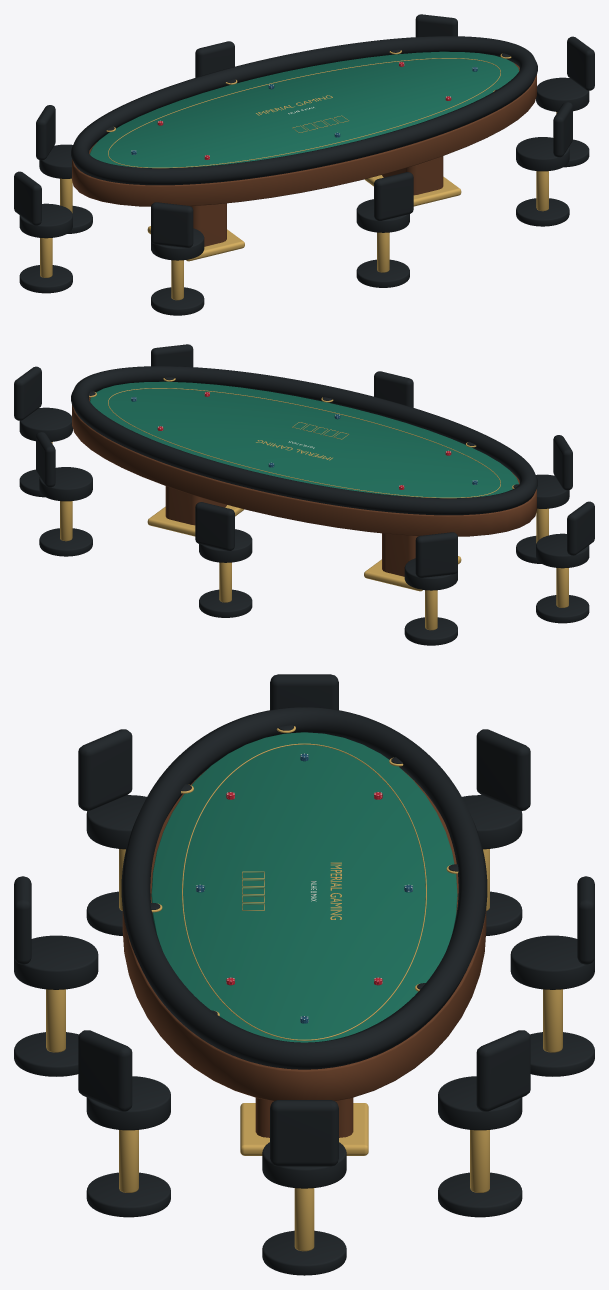
File: NLHE_8.glb
3 renders of one model, top to bottom at view 1: azimuth 30°, elevation 25°; view 2: azimuth 150°, elevation 25°; view 3: azimuth 270°, elevation 25°, orthographic. The views are drawn at different scales.
Parts seen in each view (by area): view 1: Emerald playing surface, Padded perimeter rail, Walnut table cabinet, Seat 07 backrest, Seat 00 backrest, Seat 02 cushion, Seat 01 cushion, Seat 06 cushion, Seat 02 backrest, Seat 06 backrest, Pedestal, Seat 01 foot (+20 smaller); view 2: Emerald playing surface, Padded perimeter rail, Walnut table cabinet, Seat 05 backrest, Seat 04 backrest, Seat 02 cushion, Seat 03 cushion, Seat 06 cushion, Seat 02 backrest, Seat 06 backrest, Pedestal, Seat 03 foot (+20 smaller); view 3: Emerald playing surface, Padded perimeter rail, Walnut table cabinet, Seat 02 backrest, Seat 05 backrest, Seat 07 backrest, Seat 01 backrest, Seat 03 backrest, Seat 00 cushion, Seat 04 cushion, Seat 02 foot, Seat 01 foot (+21 smaller).
Boxes of the visible parts, bbox=[...] form: Emerald playing surface: bbox=[89, 51, 518, 167]; Padded perimeter rail: bbox=[71, 36, 537, 185]; Walnut table cabinet: bbox=[72, 62, 536, 206]; Seat 07 backrest: bbox=[151, 202, 193, 247]; Seat 00 backrest: bbox=[374, 172, 413, 220]; Seat 02 cushion: bbox=[536, 77, 589, 111]; Seat 01 cushion: bbox=[516, 137, 569, 171]; Seat 06 cushion: bbox=[19, 203, 72, 238]; Seat 02 backrest: bbox=[567, 36, 594, 90]; Seat 06 backrest: bbox=[14, 171, 41, 225]; Pedestal: bbox=[191, 203, 226, 246]; Seat 01 foot: bbox=[516, 198, 569, 226]; Emerald playing surface: bbox=[90, 381, 518, 497]; Padded perimeter rail: bbox=[71, 366, 537, 515]; Walnut table cabinet: bbox=[72, 397, 536, 536]; Seat 05 backrest: bbox=[415, 532, 457, 577]; Seat 04 backrest: bbox=[195, 502, 234, 550]; Seat 02 cushion: bbox=[19, 407, 72, 441]; Seat 03 cushion: bbox=[39, 467, 92, 501]; Seat 06 cushion: bbox=[536, 533, 589, 568]; Seat 02 backrest: bbox=[14, 366, 41, 420]; Seat 06 backrest: bbox=[567, 501, 594, 555]; Pedestal: bbox=[382, 533, 417, 576]; Seat 03 foot: bbox=[39, 528, 92, 556]; Emerald playing surface: bbox=[151, 732, 457, 1042]; Padded perimeter rail: bbox=[121, 707, 487, 1069]; Walnut table cabinet: bbox=[122, 769, 486, 1101]; Seat 02 backrest: bbox=[270, 1100, 338, 1166]; Seat 05 backrest: bbox=[476, 729, 530, 810]; Seat 07 backrest: bbox=[78, 729, 132, 810]; Seat 01 backrest: bbox=[78, 1030, 132, 1111]; Seat 03 backrest: bbox=[476, 1030, 530, 1111]; Seat 00 cushion: bbox=[14, 935, 98, 989]; Seat 04 cushion: bbox=[510, 935, 594, 989]; Seat 02 foot: bbox=[262, 1230, 346, 1275]; Seat 01 foot: bbox=[86, 1172, 170, 1217].
Bounding box in the file's own units: 4.62 × 0.9175 × 2.62.
